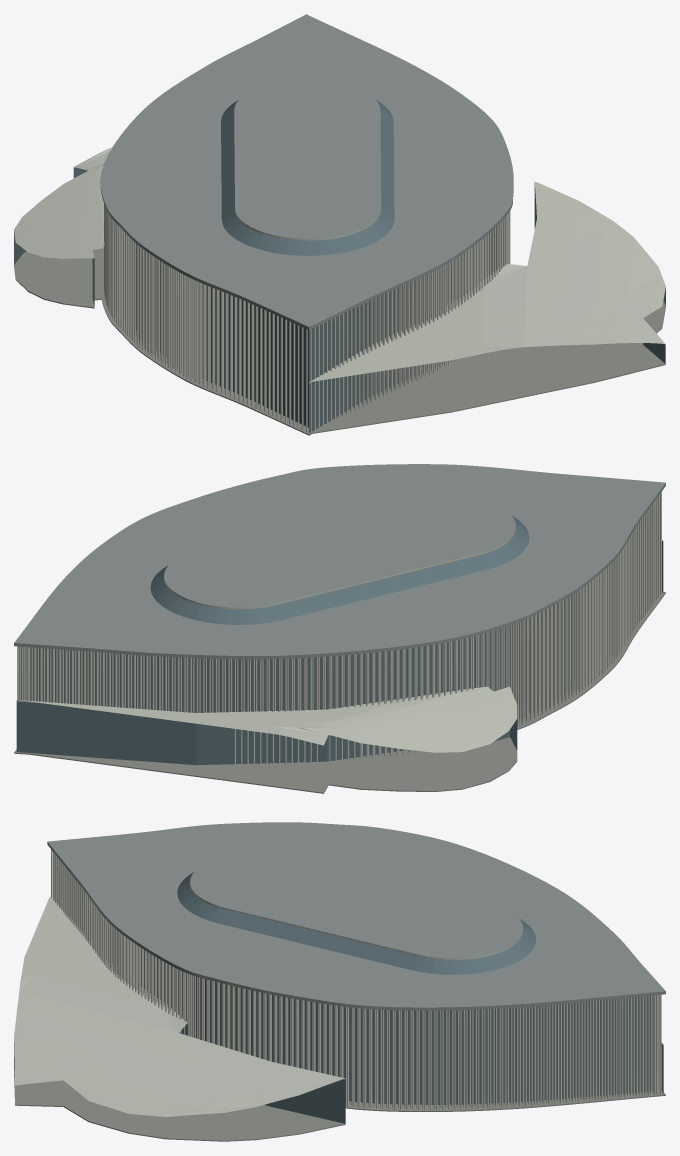
Rendered from philharmonie-luxembourg-near.glb.
3 views of the same model, one above another, from view 1: azimuth 30°, elevation 25°; view 2: azimuth 150°, elevation 25°; view 3: azimuth 270°, elevation 25° (orthographic). The views are drawn at different scales.
Parts seen in each view (by area): view 1: philharmonie-luxembourg-0-roof, philharmonie-luxembourg-0-white, philharmonie-luxembourg-0-paving, philharmonie-luxembourg-0-glass; view 2: philharmonie-luxembourg-0-roof, philharmonie-luxembourg-0-white, philharmonie-luxembourg-0-glass, philharmonie-luxembourg-0-paving; view 3: philharmonie-luxembourg-0-roof, philharmonie-luxembourg-0-white, philharmonie-luxembourg-0-glass, philharmonie-luxembourg-0-paving.
Part boxes in pixels (<box>): philharmonie-luxembourg-0-roof: <box>100,14,513,329</box>; philharmonie-luxembourg-0-white: <box>14,143,665,432</box>; philharmonie-luxembourg-0-paving: <box>14,246,665,435</box>; philharmonie-luxembourg-0-glass: <box>14,100,665,433</box>; philharmonie-luxembourg-0-roof: <box>14,464,665,659</box>; philharmonie-luxembourg-0-white: <box>16,492,663,764</box>; philharmonie-luxembourg-0-glass: <box>16,515,663,765</box>; philharmonie-luxembourg-0-paving: <box>14,592,665,793</box>; philharmonie-luxembourg-0-roof: <box>47,822,665,1010</box>; philharmonie-luxembourg-0-white: <box>14,849,663,1117</box>; philharmonie-luxembourg-0-glass: <box>14,872,663,1123</box>; philharmonie-luxembourg-0-paving: <box>14,1069,665,1141</box>.
Size of the model in its own units: 96.2 by 23 by 118.
